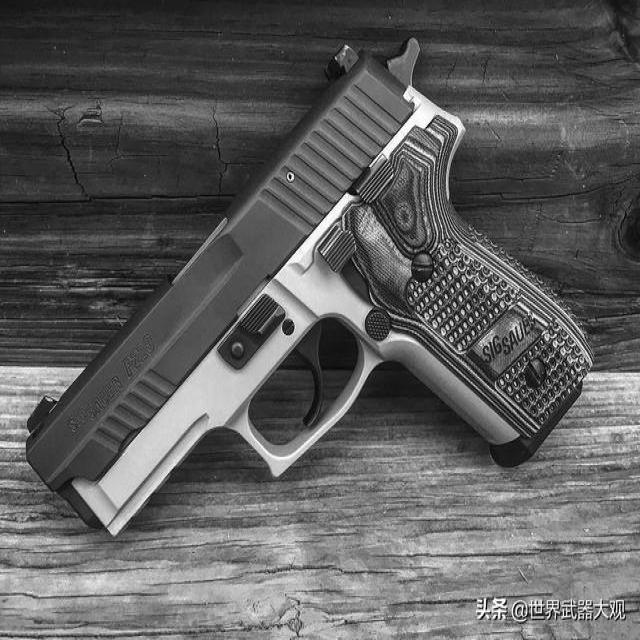gun: (24, 35, 594, 537)
